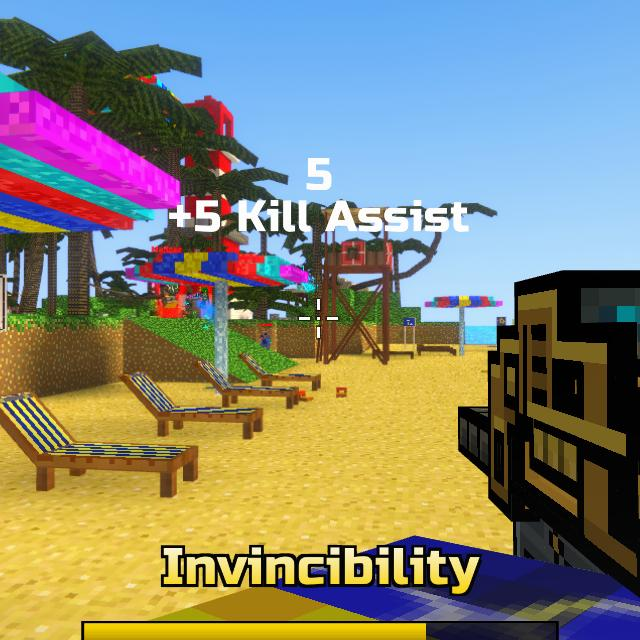Enemy: (160, 280, 181, 309)
